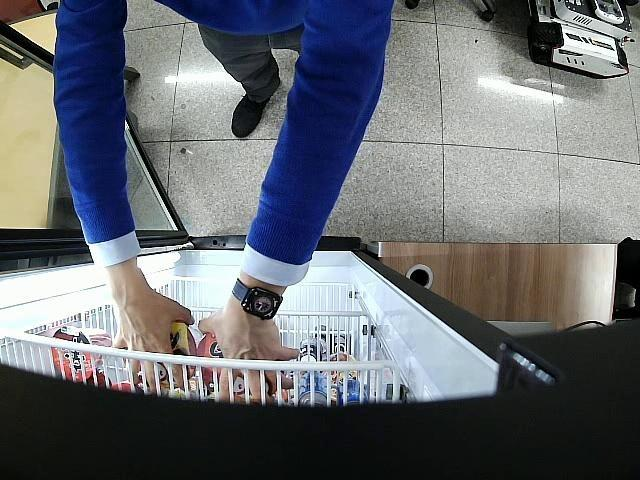05_nuguri_L: (197, 332, 272, 398), (139, 322, 197, 390)
